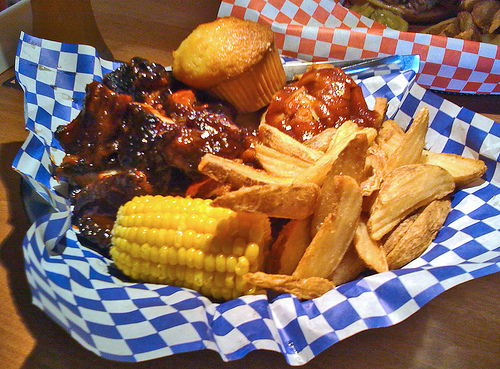corn: (108, 192, 277, 305)
